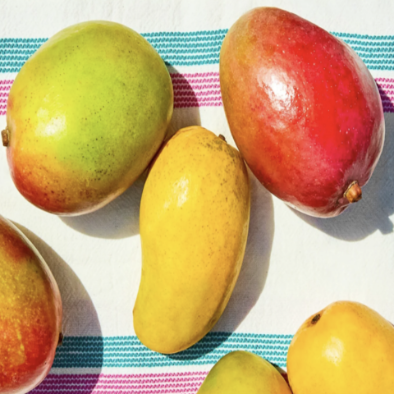mango: (206, 0, 394, 255), (0, 5, 181, 256), (124, 106, 262, 370)
